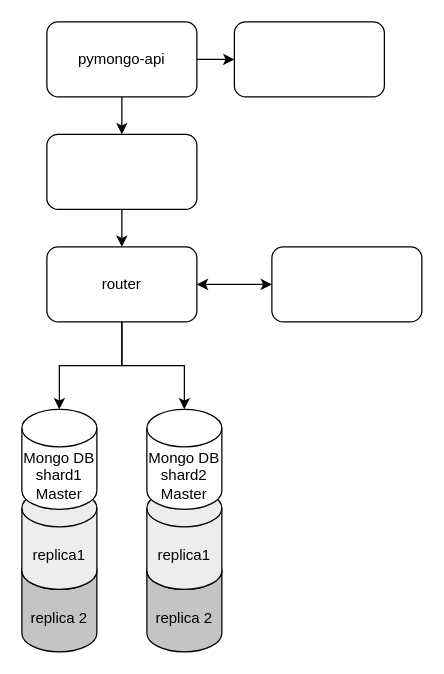
The diagram is 444 pixels wide and 674 high, and some of its shapes have lost their labels. The box of each missing label's shape, as (x1, y1, x2, y2) in pixels:
configs: (271, 246, 422, 322)
driver: (46, 133, 197, 209)
redis cache: (233, 21, 384, 97)
